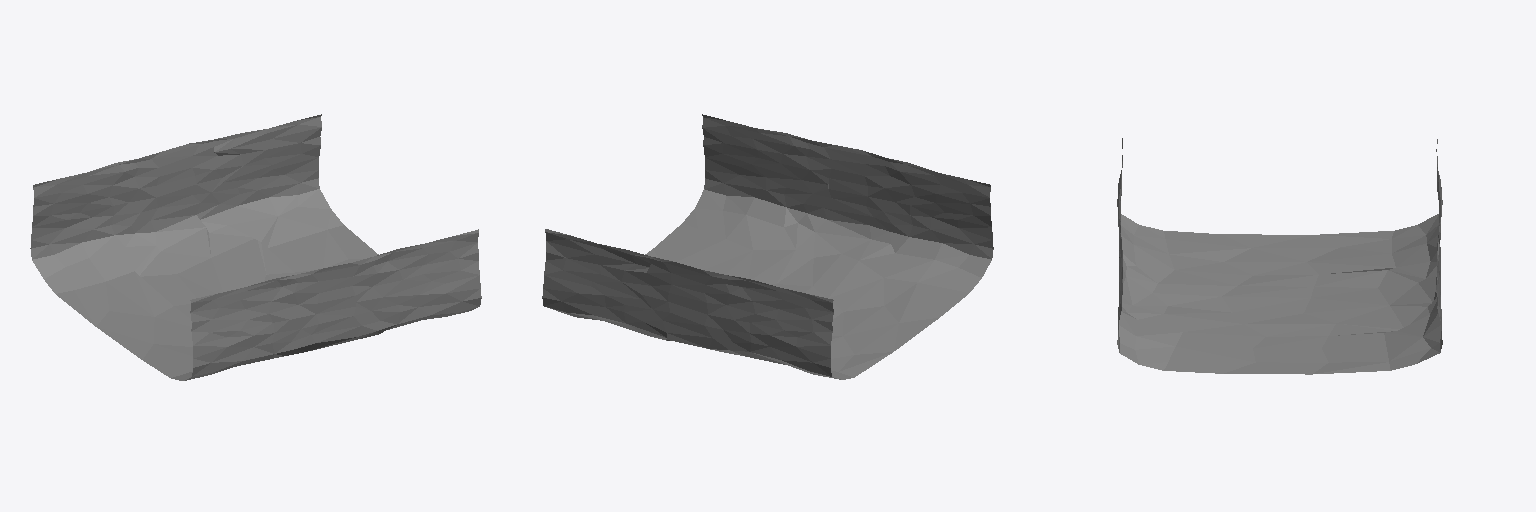
Rendered from corridor.obj.
3 renders of one model, left to right at view 1: azimuth 30°, elevation 25°; view 2: azimuth 150°, elevation 25°; view 3: azimuth 270°, elevation 25°, orthographic.
Visible parts, largest first — view 1: Plane; view 2: Plane; view 3: Plane.
Part boxes in pixels (bbox=[...]): Plane: bbox=[30, 114, 481, 380]; Plane: bbox=[542, 114, 993, 379]; Plane: bbox=[1117, 138, 1442, 374].
Size of the model in its own units: 20.85 by 6.93 by 20.36.